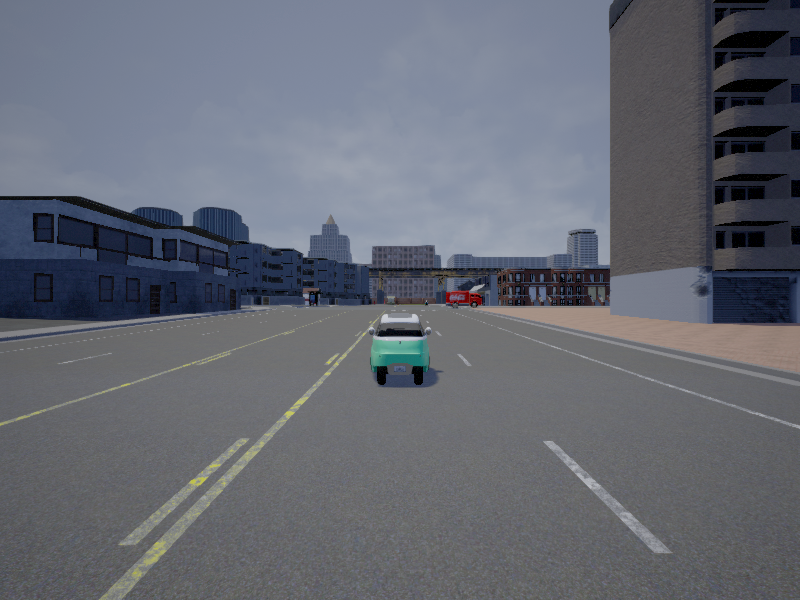Benign: (369, 314, 431, 387), (446, 291, 482, 308)
